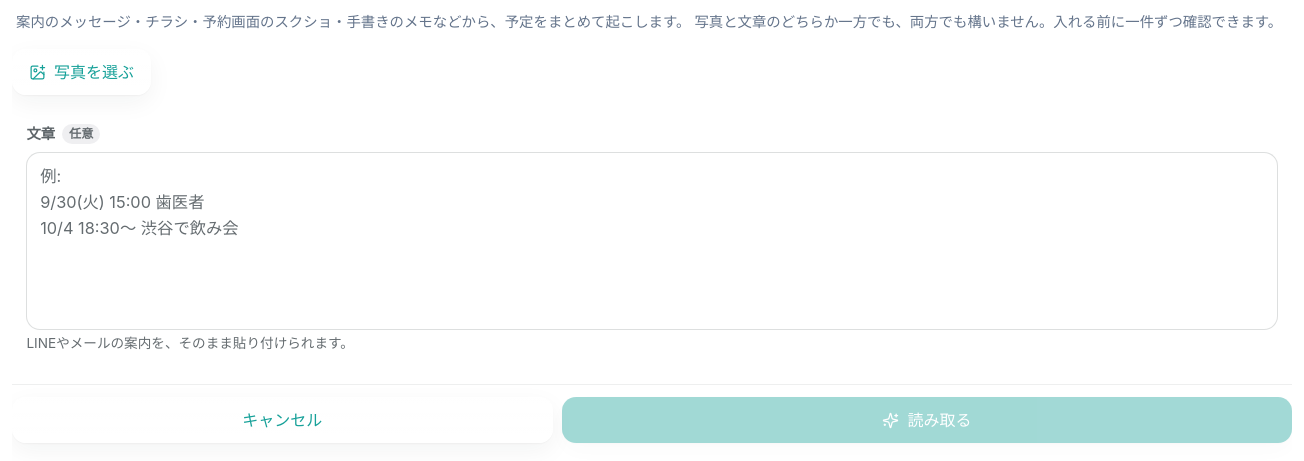
Test: 写真・文章から予定を作る画面 › 失敗した理由をそのまま出す
Type "9/30 15:00 歯医者" into the text box with placeholder "例: 9/30(火) 15:00 歯医者 10/4 18:30〜 渋谷で飲み会".
click(652, 241); type("9/30 15:00 歯医者")  # box x1=26 y1=152 x2=1278 y2=330
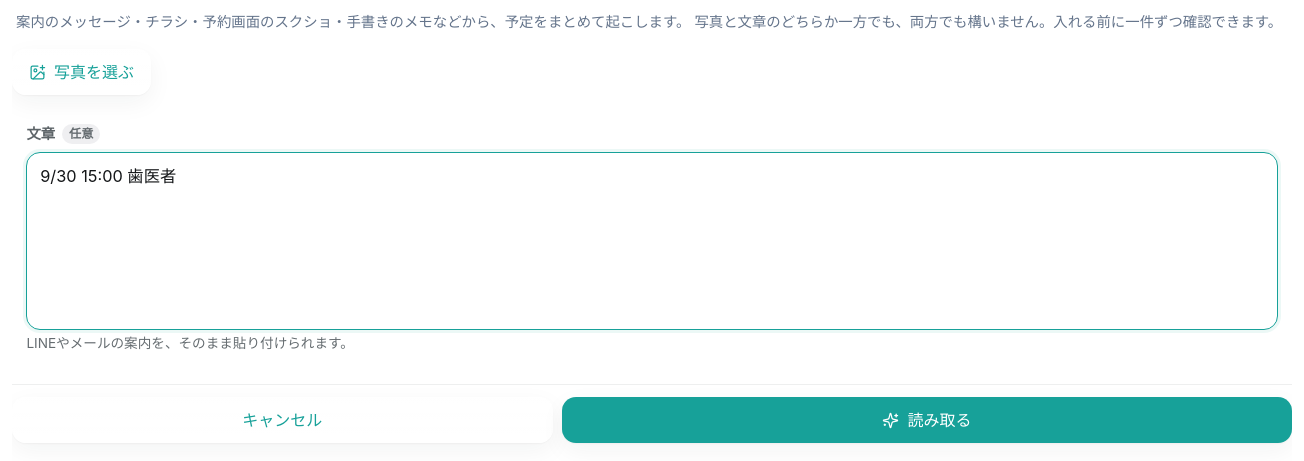
Click the button "読み取る".
click(927, 420)  # box x1=562 y1=397 x2=1292 y2=443
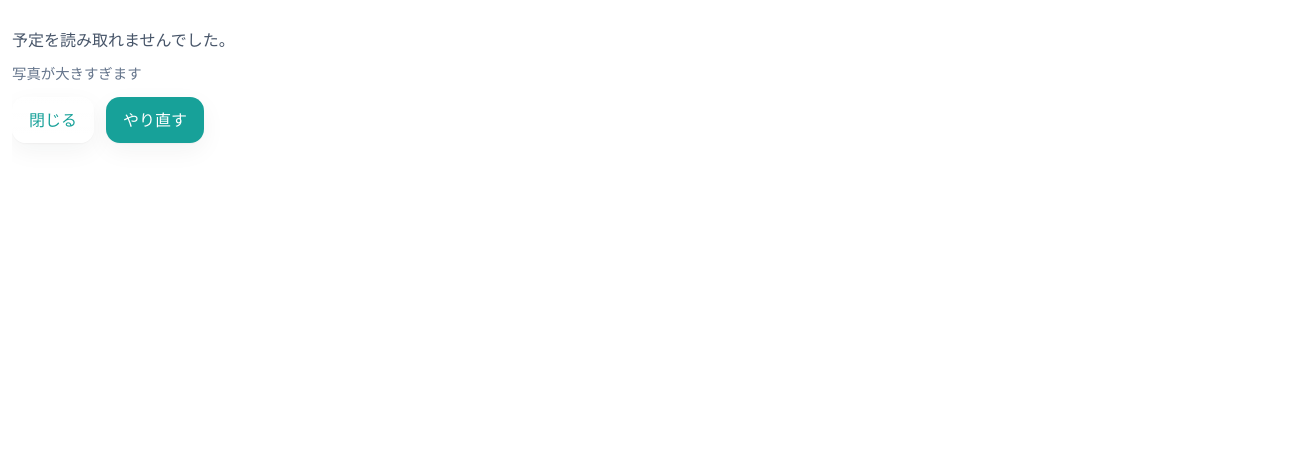
Expected: the text "予定を読み取れませんでした。" is shown, x1=12 y1=30 x2=235 y2=50
Expected: the text "写真が大きすぎます" is shown, x1=12 y1=65 x2=142 y2=82
